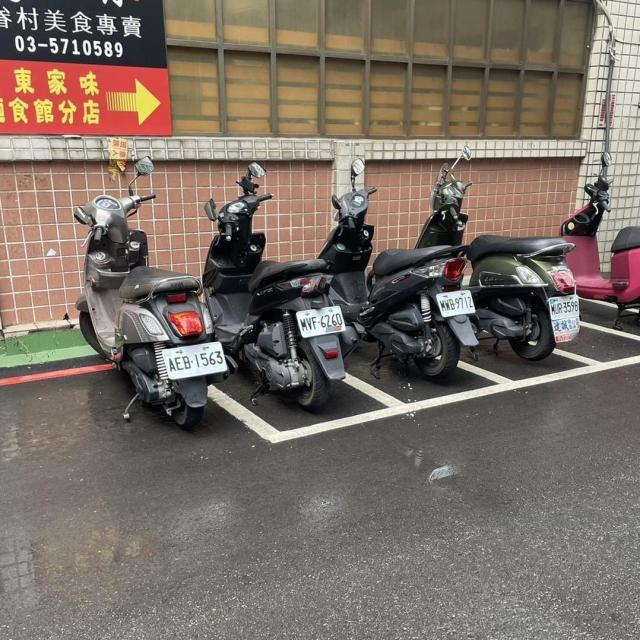W: (158, 338, 230, 379), (292, 305, 348, 337), (431, 289, 478, 318), (543, 292, 586, 322)
